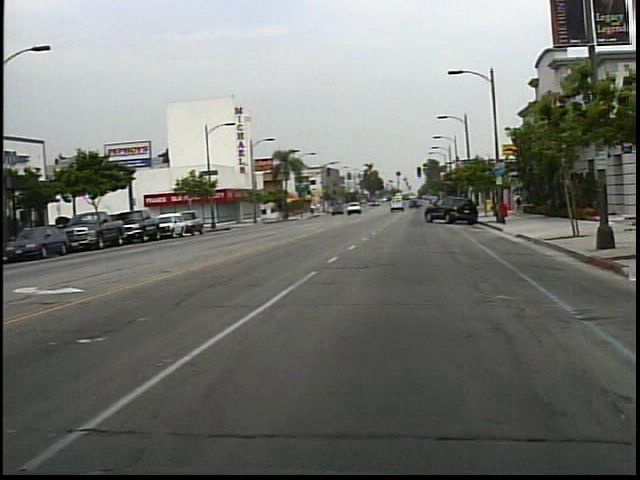person: (516, 188, 530, 218)
